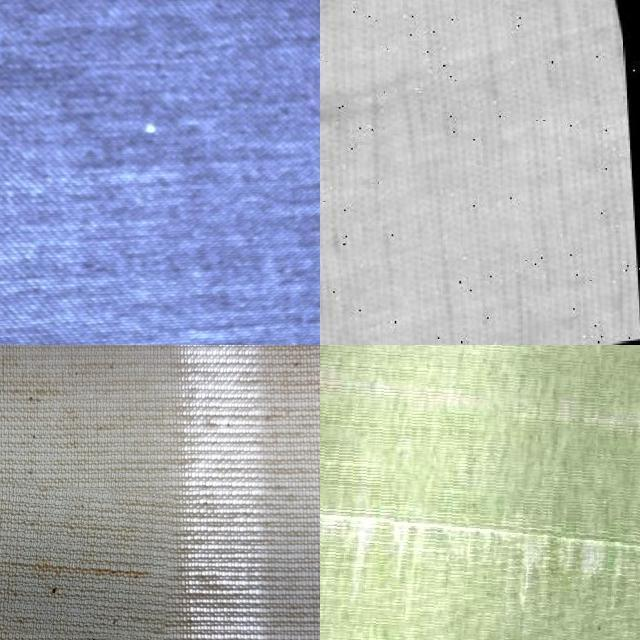Thread_other: (320, 345, 640, 640), (0, 482, 170, 639)
seam: (320, 13, 394, 222)
